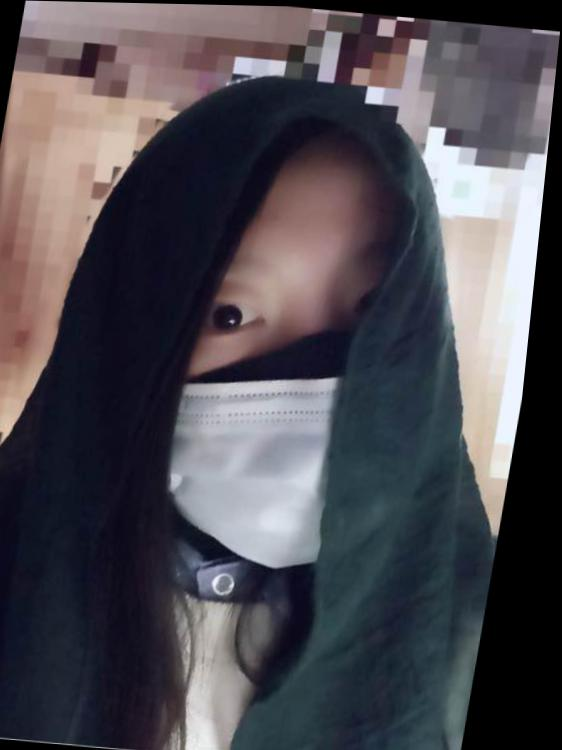WRONG: (92, 225, 450, 562)
